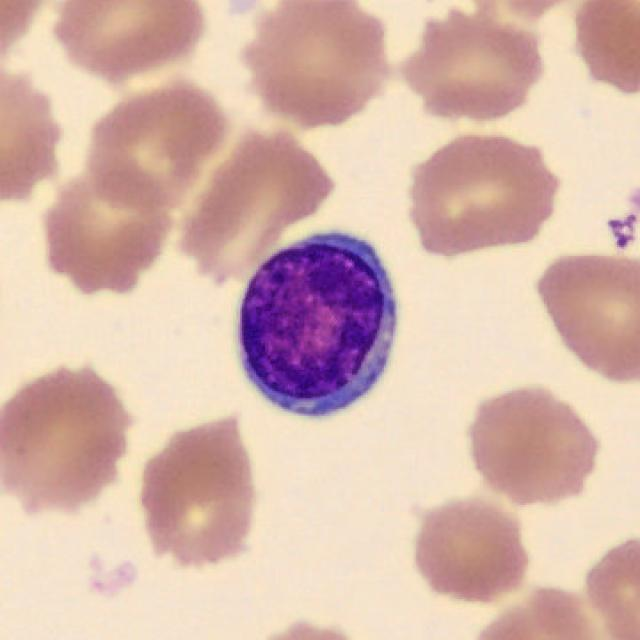Linfocito: (238, 231, 398, 416)
